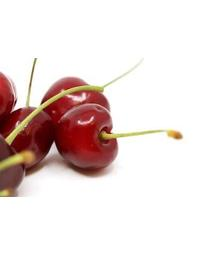cherry: (55, 104, 118, 171), (43, 77, 109, 137), (2, 108, 56, 170)
